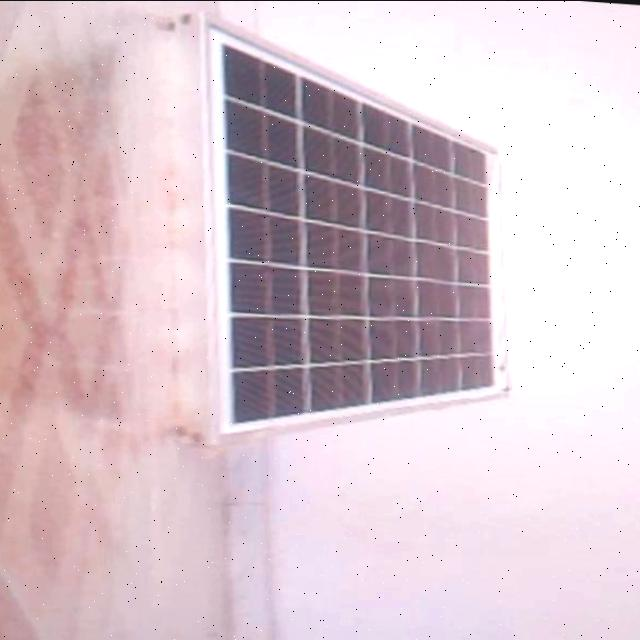Normal Solar Panel: (138, 9, 537, 465)
